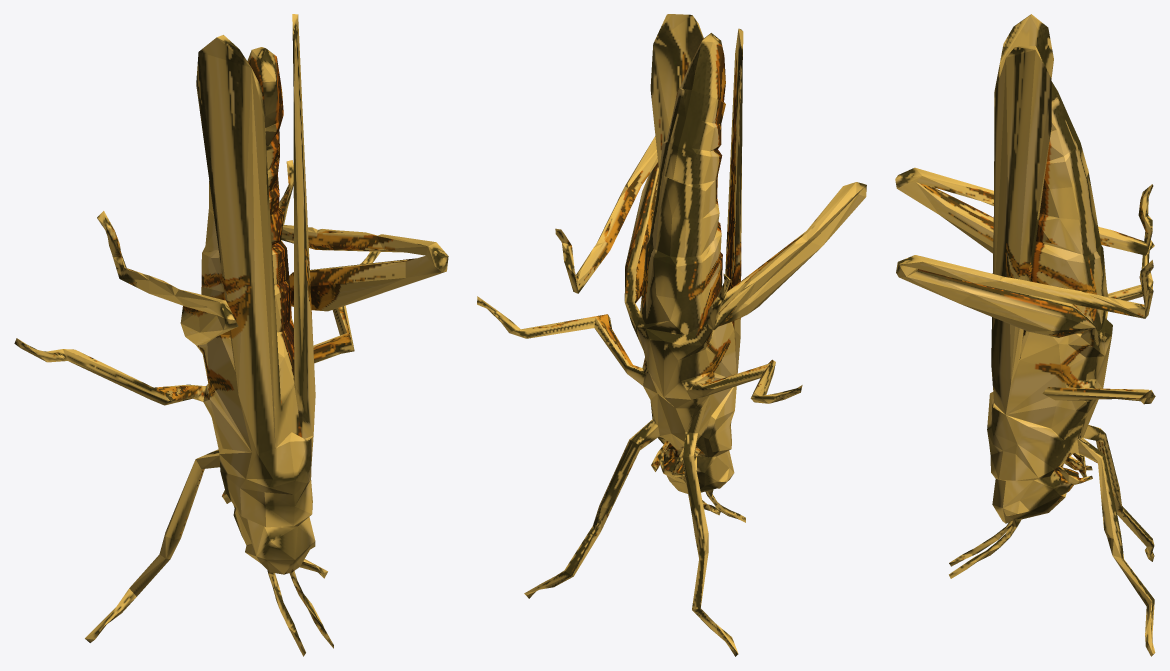
File: goldenlocust.obj
3 renders of one model, left to right at view 1: azimuth 30°, elevation 25°; view 2: azimuth 150°, elevation 25°; view 3: azimuth 270°, elevation 25°, orthographic. The views are drawn at different scales.
Visible parts, largest first — view 1: 15928_Locust_new; view 2: 15928_Locust_new; view 3: 15928_Locust_new.
Boxes of the visible parts, box(x1,y1,x2,y2) form: 15928_Locust_new: box(14, 14, 448, 656); 15928_Locust_new: box(477, 14, 866, 656); 15928_Locust_new: box(895, 14, 1155, 656).
Size of the model in its own units: 8.68 by 14.56 by 5.97.
